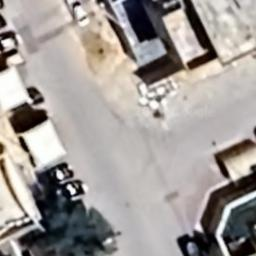sedan: (44, 178, 94, 204), (35, 162, 77, 186), (60, 0, 92, 30), (0, 28, 28, 52), (0, 50, 29, 68)
